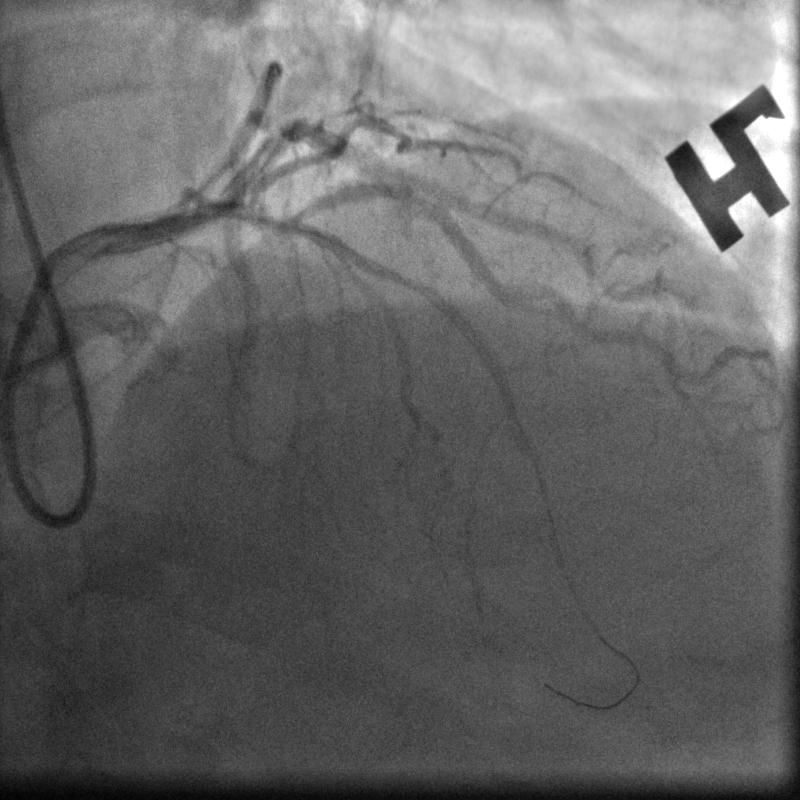Stenosis: (402, 176, 443, 219)
